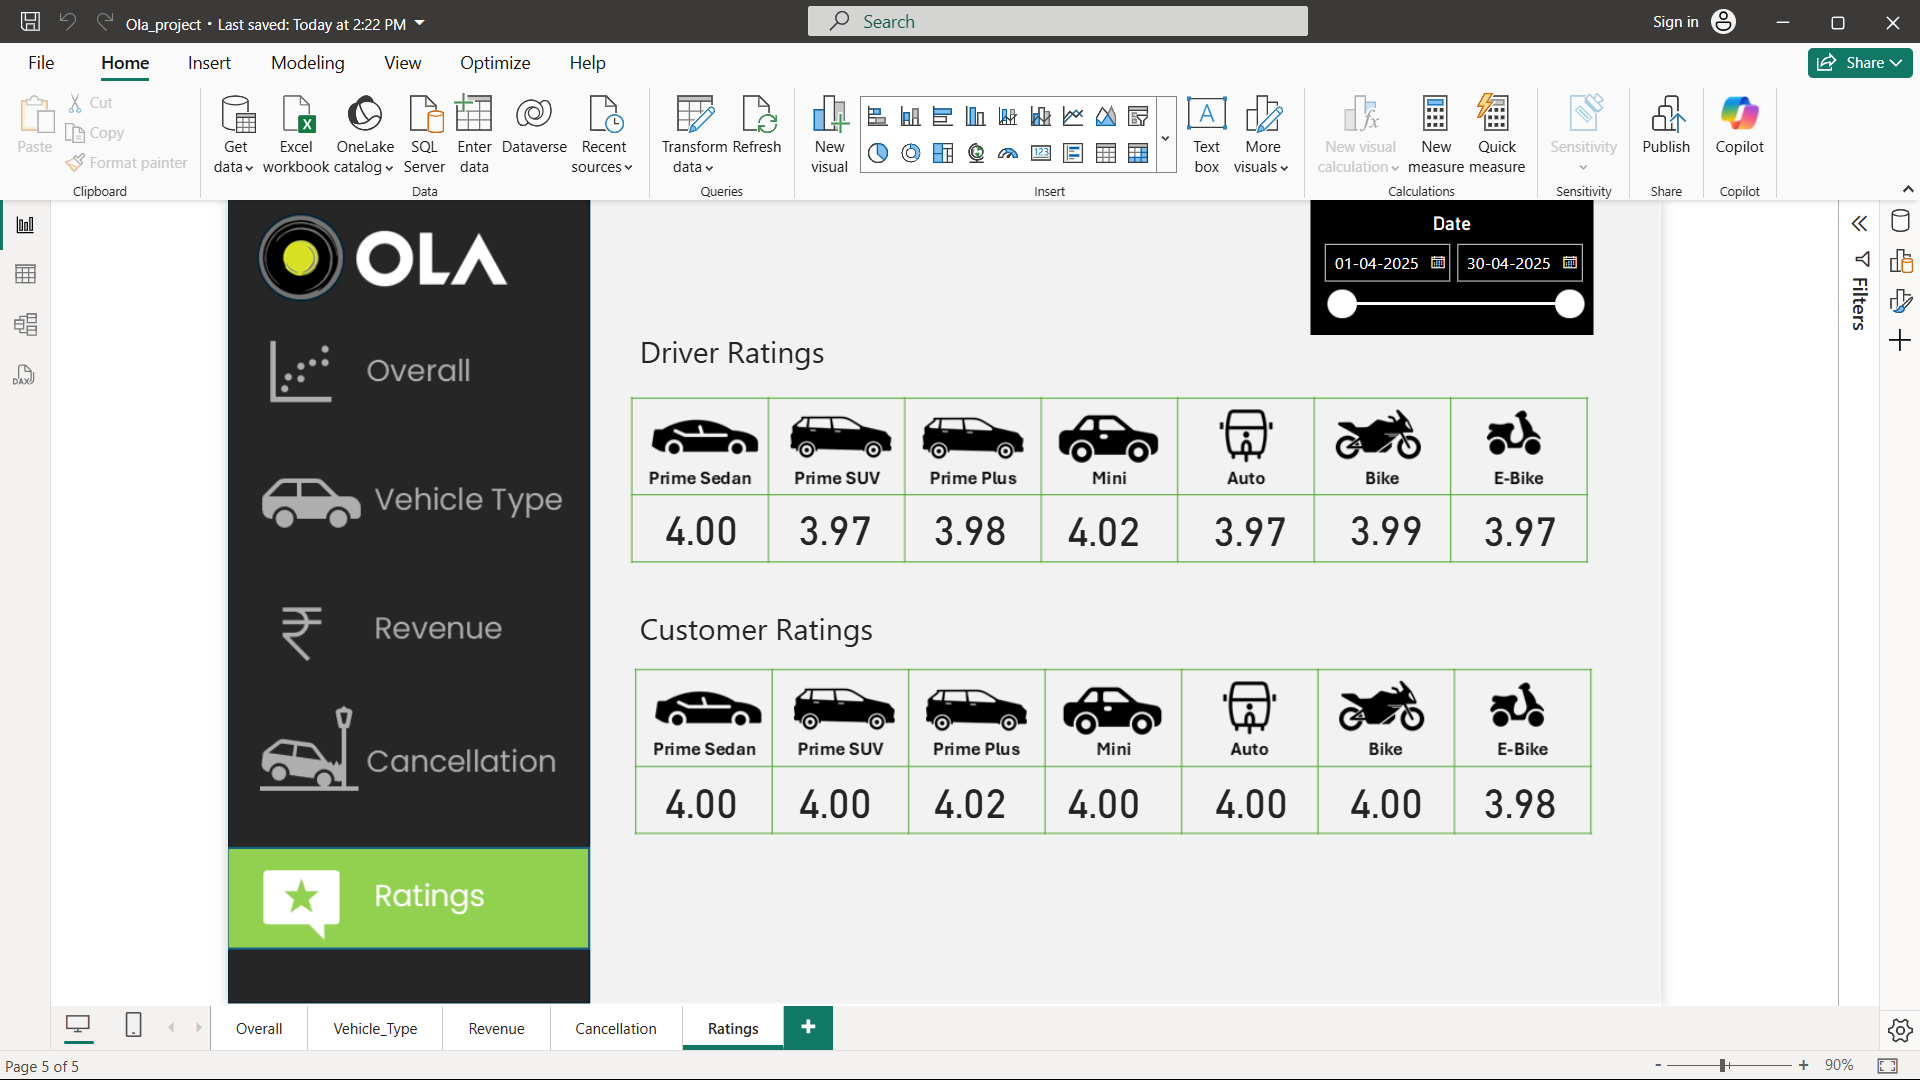

This screenshot's page, from the dashboard's own definition file:
{"tool":"powerbi","page":{"name":"Ratings","canvas":[1280,720],"ordinal":4},"visuals":[{"type":"actionButton","box":[0,110.9,324.3,91],"z":0},{"type":"actionButton","box":[0,219,324.3,103.8],"z":1000},{"type":"actionButton","box":[0,322.8,324.3,103.8],"z":2000},{"type":"actionButton","box":[0,426.7,324.3,128],"z":3000},{"type":"actionButton","box":[0,554.7,324.3,165],"z":4000},{"type":"card","fields":{"Values":["Avg(ahmedabad_booking_data.Driver_Ratings)"]},"box":[362.9,261.4,120,61.4],"z":5000},{"type":"card","fields":{"Values":["Avg(ahmedabad_booking_data.Driver_Ratings)"]},"box":[482.9,261.4,120,61.4],"z":6000},{"type":"card","fields":{"Values":["Avg(ahmedabad_booking_data.Driver_Ratings)"]},"box":[602.9,261.4,120,61.4],"z":7000},{"type":"card","fields":{"Values":["Avg(ahmedabad_booking_data.Driver_Ratings)"]},"box":[722.9,262.9,120,61.4],"z":8000},{"type":"card","fields":{"Values":["Avg(ahmedabad_booking_data.Driver_Ratings)"]},"box":[852.9,262.9,120,61.4],"z":9000},{"type":"card","fields":{"Values":["Avg(ahmedabad_booking_data.Driver_Ratings)"]},"box":[974.3,261.4,120,61.4],"z":10000},{"type":"card","fields":{"Values":["Avg(ahmedabad_booking_data.Driver_Ratings)"]},"box":[1094.3,262.9,120,61.4],"z":11000},{"type":"textbox","box":[362.9,111.4,262.9,91.4],"z":12000},{"type":"textbox","box":[362.9,360,671.4,67.1],"z":13000},{"type":"card","fields":{"Values":["Avg(ahmedabad_booking_data.Customer_Rating)"]},"box":[362.9,505.7,120,61.4],"z":14000},{"type":"card","fields":{"Values":["Avg(ahmedabad_booking_data.Customer_Rating)"]},"box":[482.9,505.7,120,61.4],"z":15000},{"type":"card","fields":{"Values":["Avg(ahmedabad_booking_data.Customer_Rating)"]},"box":[602.9,505.7,120,61.4],"z":16000},{"type":"card","fields":{"Values":["Avg(ahmedabad_booking_data.Customer_Rating)"]},"box":[722.9,505.7,120,61.4],"z":17000},{"type":"card","fields":{"Values":["Avg(ahmedabad_booking_data.Customer_Rating)"]},"box":[854.3,505.7,120,61.4],"z":18000},{"type":"card","fields":{"Values":["Avg(ahmedabad_booking_data.Customer_Rating)"]},"box":[974.3,505.7,120,61.4],"z":19000},{"type":"card","fields":{"Values":["Avg(ahmedabad_booking_data.Customer_Rating)"]},"box":[1094.3,505.7,120,61.4],"z":20000},{"type":"slicer","title":"Date","fields":{"Values":["ahmedabad_booking_data.Date"]},"box":[967.1,0,252.9,120],"z":21000}]}

Visuals, with their boxes on the page's 1280x720 design canvas (x1, y1, x2, y2). These are canvas units, not pixel positions in the 1920x1080 screenshot, which may show the page scaled, cropped or inside an application window:
actionButton: (left=0, top=111, right=324, bottom=202)
actionButton: (left=0, top=219, right=324, bottom=323)
actionButton: (left=0, top=323, right=324, bottom=427)
actionButton: (left=0, top=427, right=324, bottom=555)
actionButton: (left=0, top=555, right=324, bottom=720)
card - Avg(ahmedabad_booking_data.Driver_Ratings): (left=363, top=261, right=483, bottom=323)
card - Avg(ahmedabad_booking_data.Driver_Ratings): (left=483, top=261, right=603, bottom=323)
card - Avg(ahmedabad_booking_data.Driver_Ratings): (left=603, top=261, right=723, bottom=323)
card - Avg(ahmedabad_booking_data.Driver_Ratings): (left=723, top=263, right=843, bottom=324)
card - Avg(ahmedabad_booking_data.Driver_Ratings): (left=853, top=263, right=973, bottom=324)
card - Avg(ahmedabad_booking_data.Driver_Ratings): (left=974, top=261, right=1094, bottom=323)
card - Avg(ahmedabad_booking_data.Driver_Ratings): (left=1094, top=263, right=1214, bottom=324)
textbox: (left=363, top=111, right=626, bottom=203)
textbox: (left=363, top=360, right=1034, bottom=427)
card - Avg(ahmedabad_booking_data.Customer_Rating): (left=363, top=506, right=483, bottom=567)
card - Avg(ahmedabad_booking_data.Customer_Rating): (left=483, top=506, right=603, bottom=567)
card - Avg(ahmedabad_booking_data.Customer_Rating): (left=603, top=506, right=723, bottom=567)
card - Avg(ahmedabad_booking_data.Customer_Rating): (left=723, top=506, right=843, bottom=567)
card - Avg(ahmedabad_booking_data.Customer_Rating): (left=854, top=506, right=974, bottom=567)
card - Avg(ahmedabad_booking_data.Customer_Rating): (left=974, top=506, right=1094, bottom=567)
card - Avg(ahmedabad_booking_data.Customer_Rating): (left=1094, top=506, right=1214, bottom=567)
"Date" slicer: (left=967, top=0, right=1220, bottom=120)
